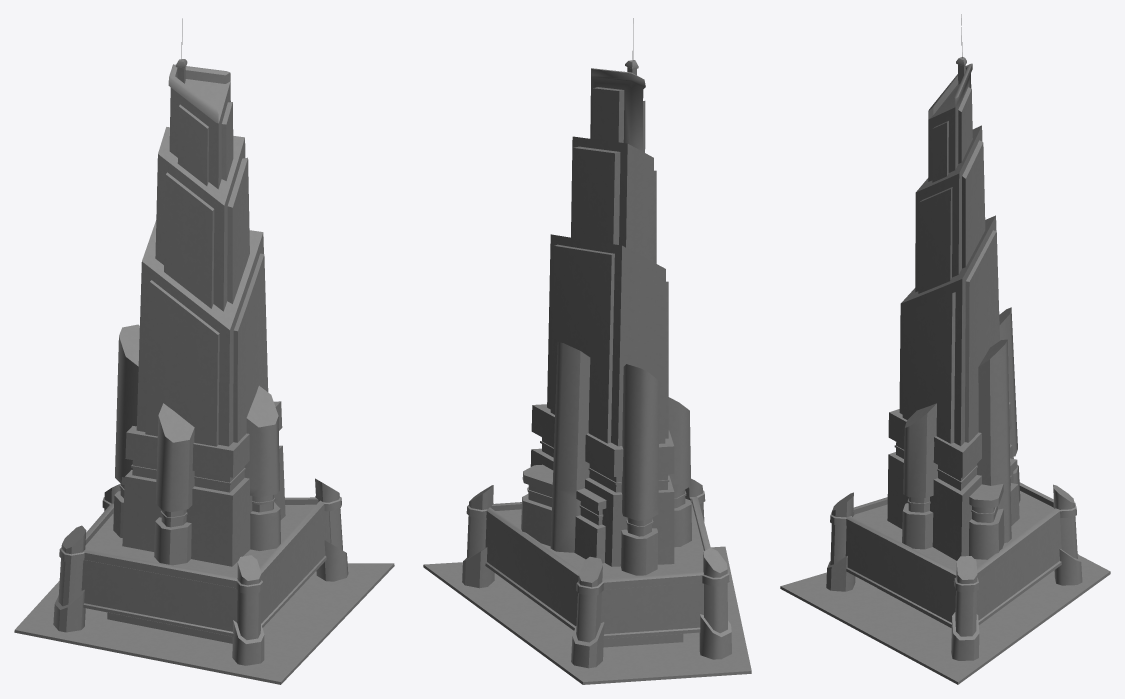
The model's file is bldg_sKy-T9_000.FBX.
3 renders of one model, left to right at view 1: azimuth 30°, elevation 25°; view 2: azimuth 150°, elevation 25°; view 3: azimuth 270°, elevation 25°, orthographic. The views are drawn at different scales.
Visible parts, largest first — view 1: bldg_sKy_T9_00; view 2: bldg_sKy_T9_00; view 3: bldg_sKy_T9_00.
Part boxes in pixels (box(x1,y1,x2,y2)): bldg_sKy_T9_00: box(14, 18, 394, 684); bldg_sKy_T9_00: box(423, 18, 751, 684); bldg_sKy_T9_00: box(780, 14, 1110, 684).
Size of the model in its own units: 81.51 by 133 by 69.35.
Materials: 1 (1 with a texture image).
